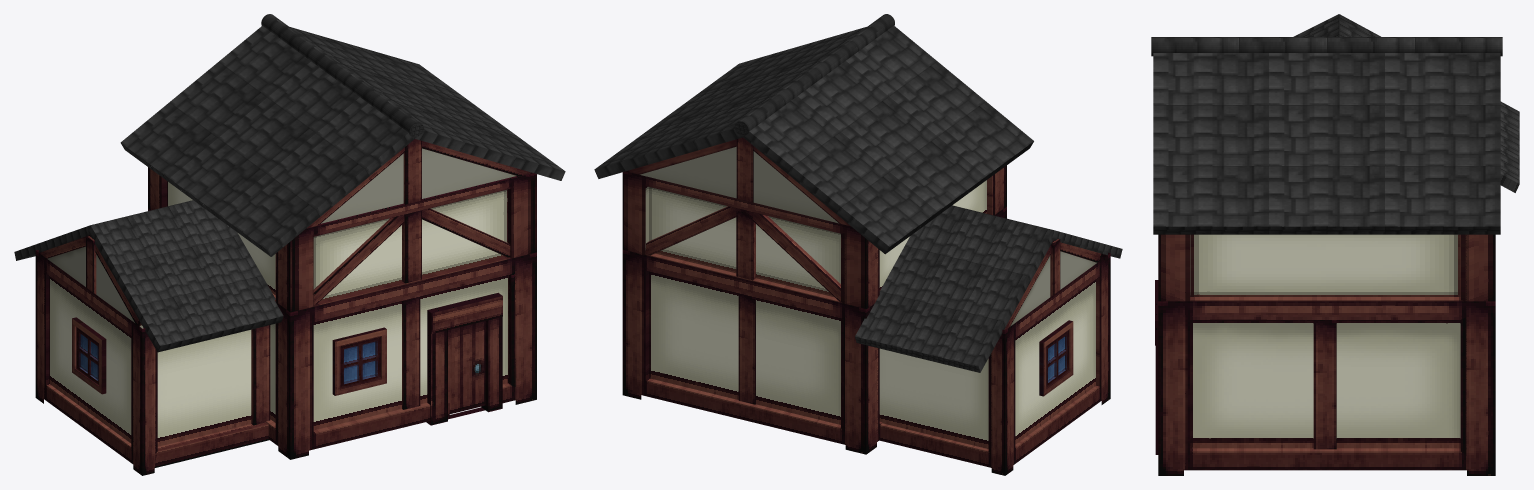
Rendered from house2-big.glb.
The picture shows the model from 3 angles, left to right: view 1: azimuth 30°, elevation 25°; view 2: azimuth 150°, elevation 25°; view 3: azimuth 270°, elevation 25°; orthographic projection. The views are drawn at different scales.
Parts seen in each view (by area): view 1: Plane.005, Walls.003, Walls, Plane.006, Walls.001, door, Plane.002, Plane.004, Cylinder, Cube.002, Plane.008, Walls.002 (+9 smaller); view 2: Plane.005, Walls, Walls.003, Plane.006, Walls.001, Plane.001, Cylinder, Plane.008, Cube.003, Cube.013, Plane.007, Cube.012 (+5 smaller); view 3: Plane.005, Walls, Walls.001, Cylinder, Cube.004, Plane.006, door.
Boxes of the visible parts, left/top/right/bottom form: Plane.005: left=120, top=26, right=565, bottom=256; Walls.003: left=35, top=250, right=269, bottom=475; Walls: left=148, top=208, right=536, bottom=459; Plane.006: left=14, top=200, right=283, bottom=352; Walls.001: left=148, top=167, right=536, bottom=312; door: left=426, top=292, right=502, bottom=425; Plane.002: left=321, top=148, right=516, bottom=223; Plane.004: left=332, top=327, right=386, bottom=395; Cylinder: left=261, top=14, right=423, bottom=137; Cube.002: left=402, top=297, right=420, bottom=409; Plane.008: left=72, top=317, right=106, bottom=394; Walls.002: left=299, top=173, right=534, bottom=235; Plane.005: left=594, top=25, right=1033, bottom=254; Walls: left=622, top=206, right=1006, bottom=454; Walls.003: left=879, top=252, right=1110, bottom=475; Plane.006: left=855, top=205, right=1122, bottom=372; Walls.001: left=622, top=165, right=1006, bottom=308; Plane.001: left=640, top=146, right=838, bottom=223; Cylinder: left=734, top=14, right=894, bottom=135; Plane.008: left=1039, top=320, right=1073, bottom=396; Cube.003: left=738, top=293, right=755, bottom=404; Cube.013: left=741, top=200, right=840, bottom=301; Plane.007: left=1010, top=251, right=1096, bottom=326; Cube.012: left=646, top=199, right=748, bottom=255; Plane.005: left=1153, top=53, right=1500, bottom=234; Walls: left=1158, top=301, right=1495, bottom=475; Walls.001: left=1158, top=234, right=1495, bottom=301; Cylinder: left=1151, top=37, right=1502, bottom=56; Cube.004: left=1313, top=320, right=1336, bottom=449; Plane.006: left=1293, top=14, right=1519, bottom=192; door: left=1155, top=280, right=1158, bottom=454.
Bounding box in the file's own units: 5.69 × 4.21 × 3.82.
Materials: 43 (43 with a texture image).
